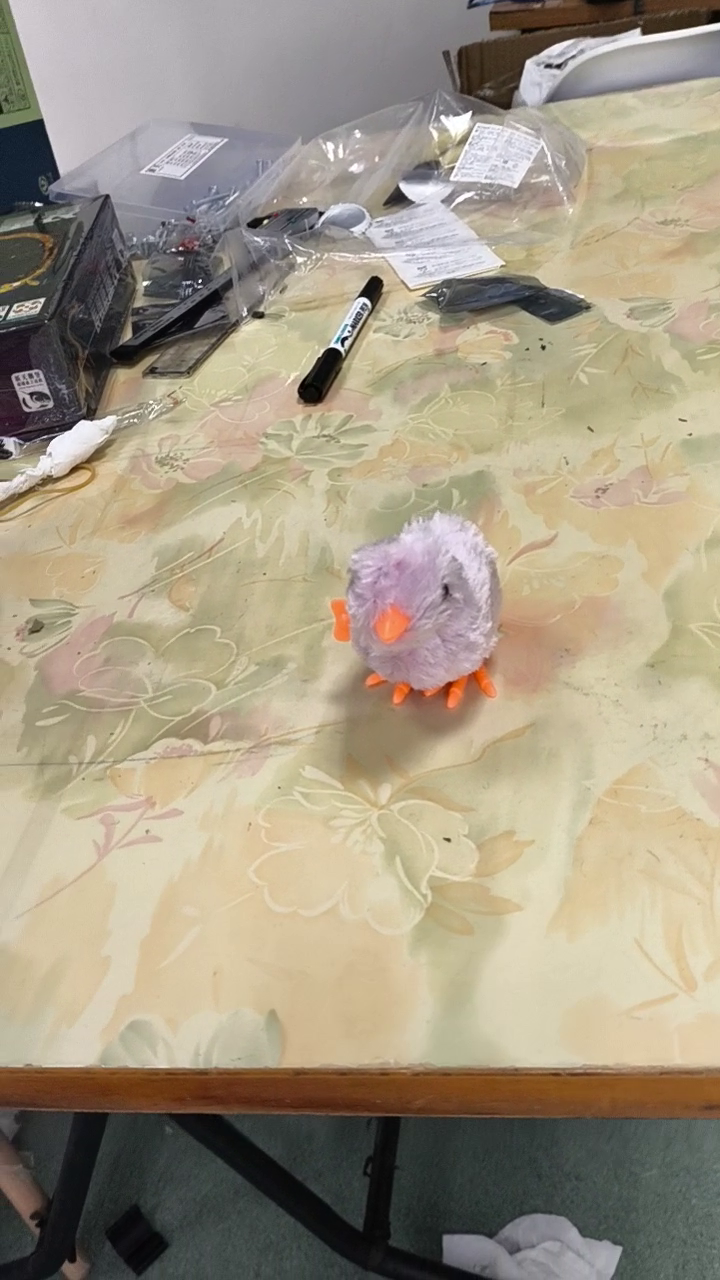pink chicken: (330, 506, 507, 715)
